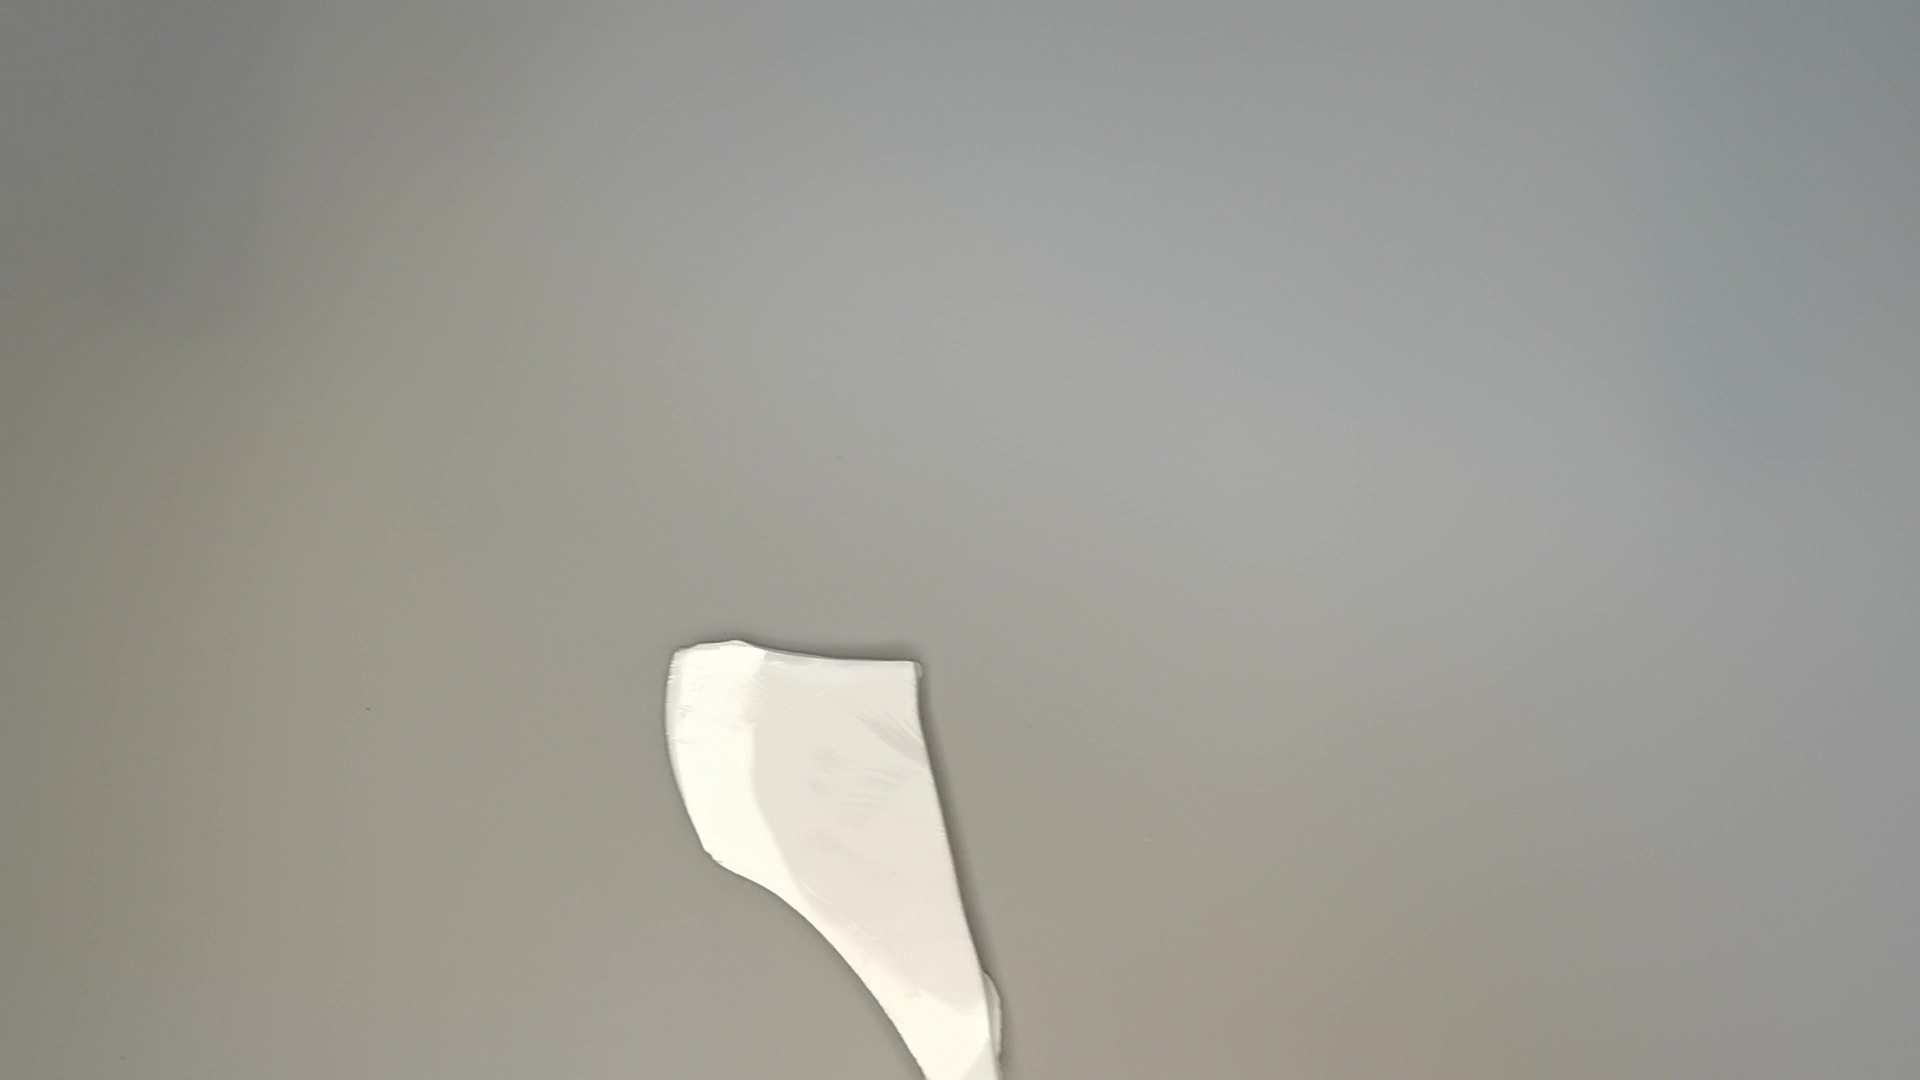ceramic: (659, 632, 1018, 1080)
